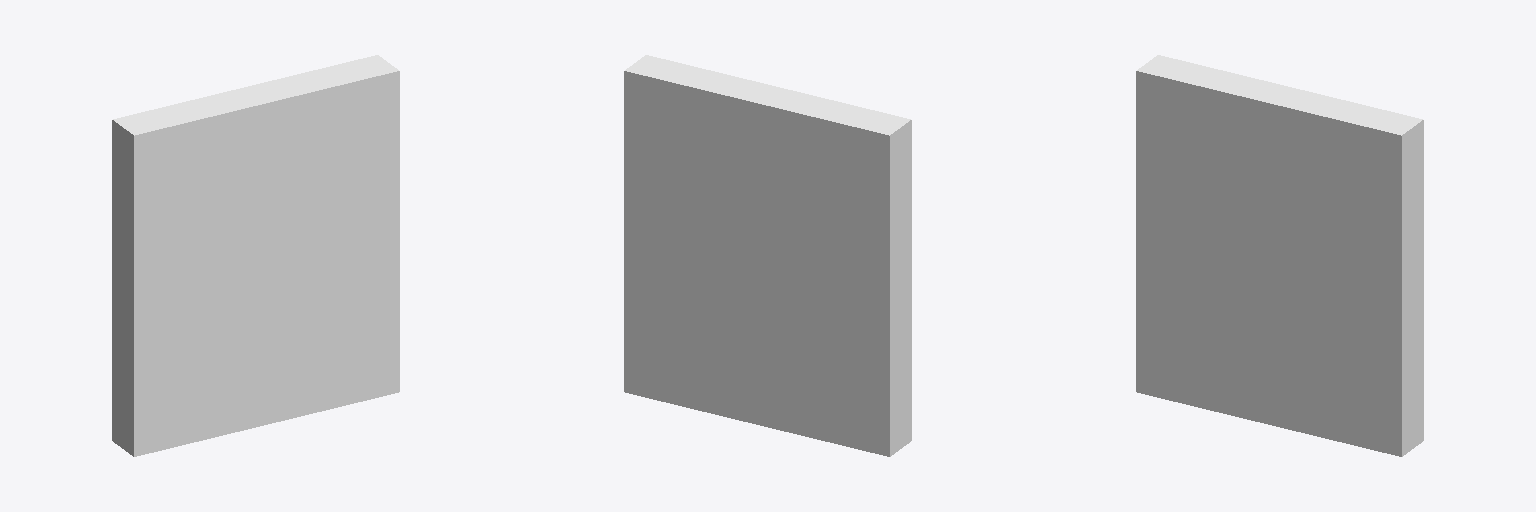
The model's file is wall_h81_rc_0.9.obj.
3 renders of one model, left to right at view 1: azimuth 30°, elevation 25°; view 2: azimuth 150°, elevation 25°; view 3: azimuth 330°, elevation 25°, orthographic.
Visible parts, largest first — view 1: object 1; view 2: object 1; view 3: object 1.
Boxes of the visible parts, x1=… form: object 1: x1=112, y1=55, x2=399, y2=456; object 1: x1=624, y1=55, x2=911, y2=456; object 1: x1=1136, y1=55, x2=1423, y2=456.
Bounding box in the file's own units: 7 × 8.1 × 1.